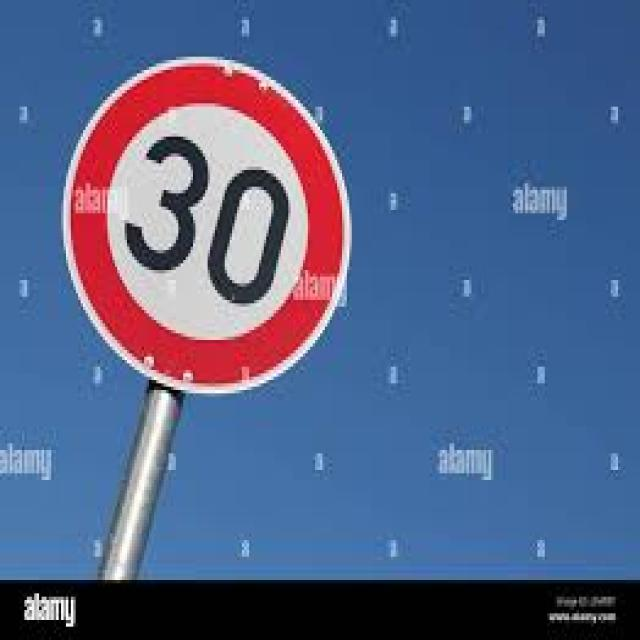speed_30: (63, 57, 353, 399)
